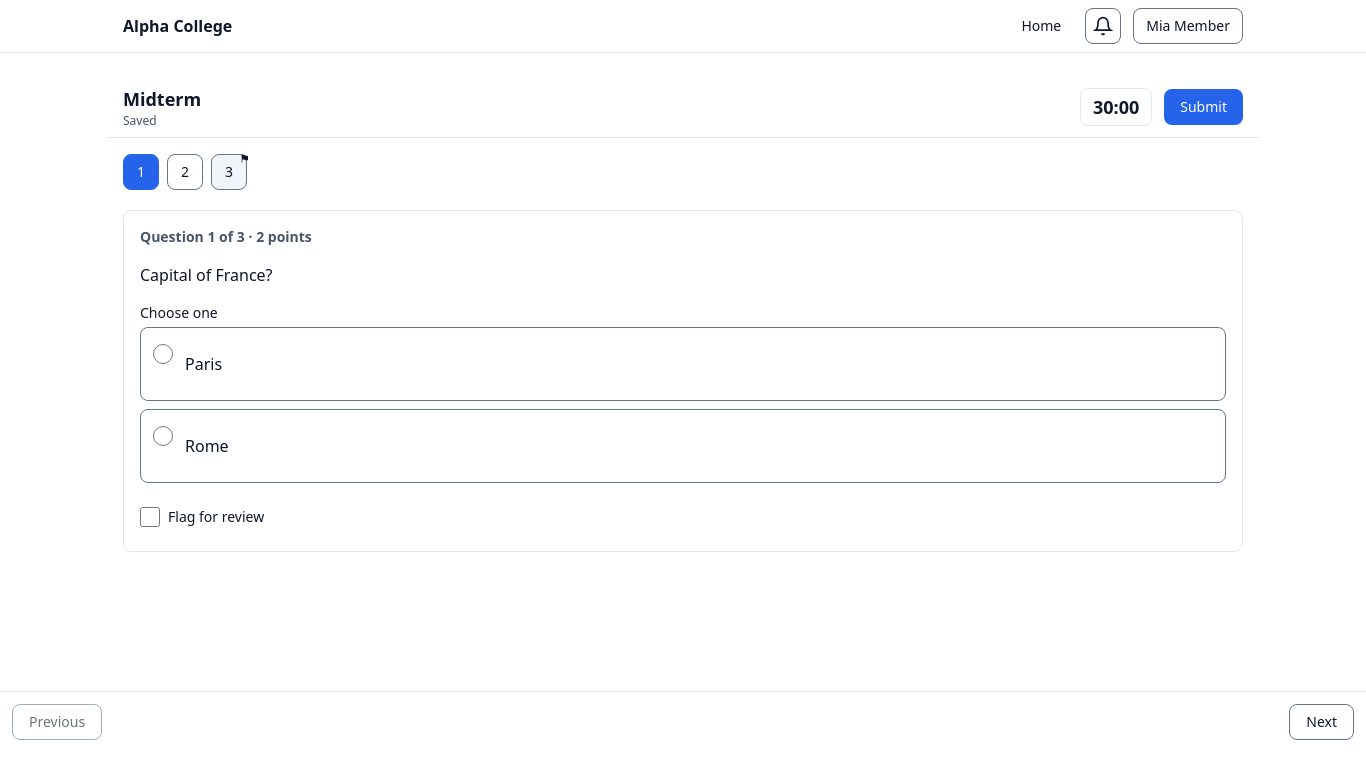
Test case: the exam screen › saves at once when the learner moves to another question
The width and height of the screenshot is (1366, 768).
Click the radio button labelled "Rome".
click(163, 436)  # box [153,426,173,446]
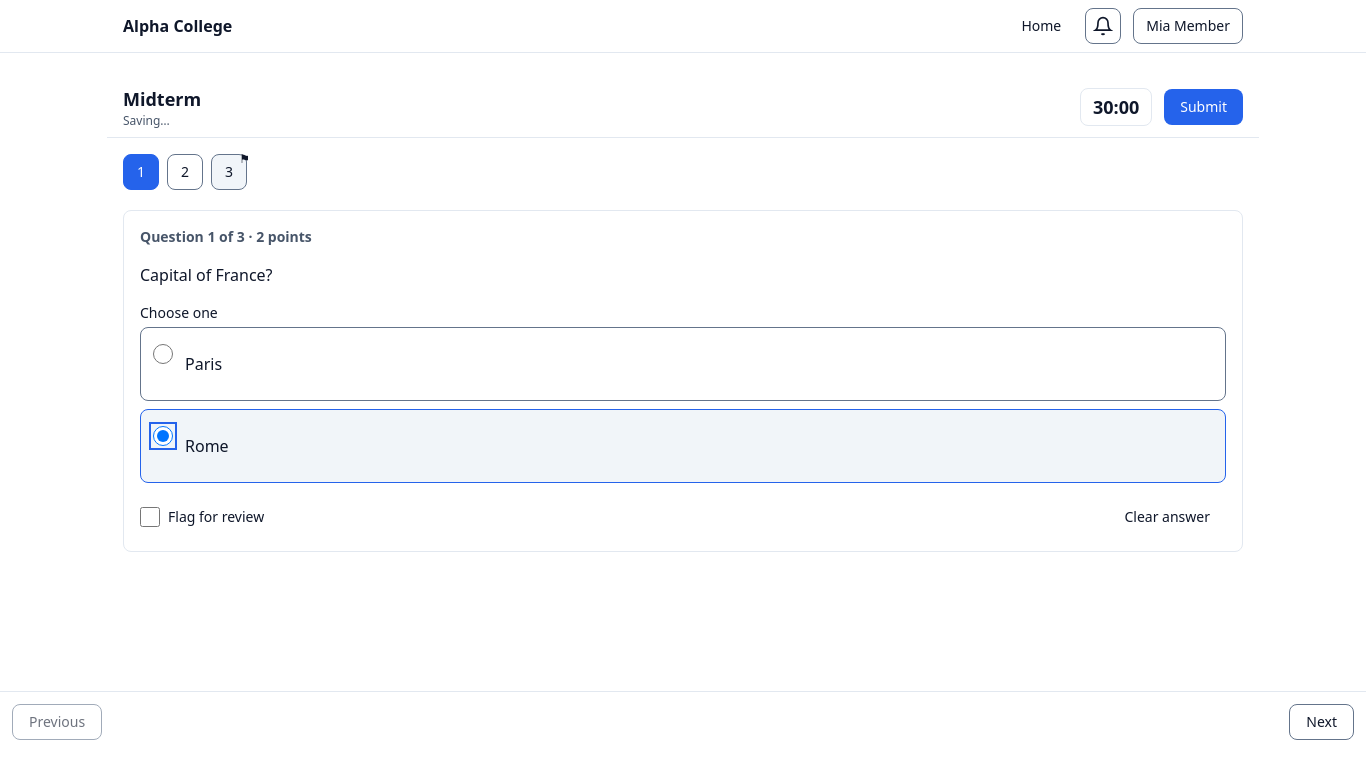
Click the button "Next".
click(1322, 722)  # box [1289,704,1354,740]
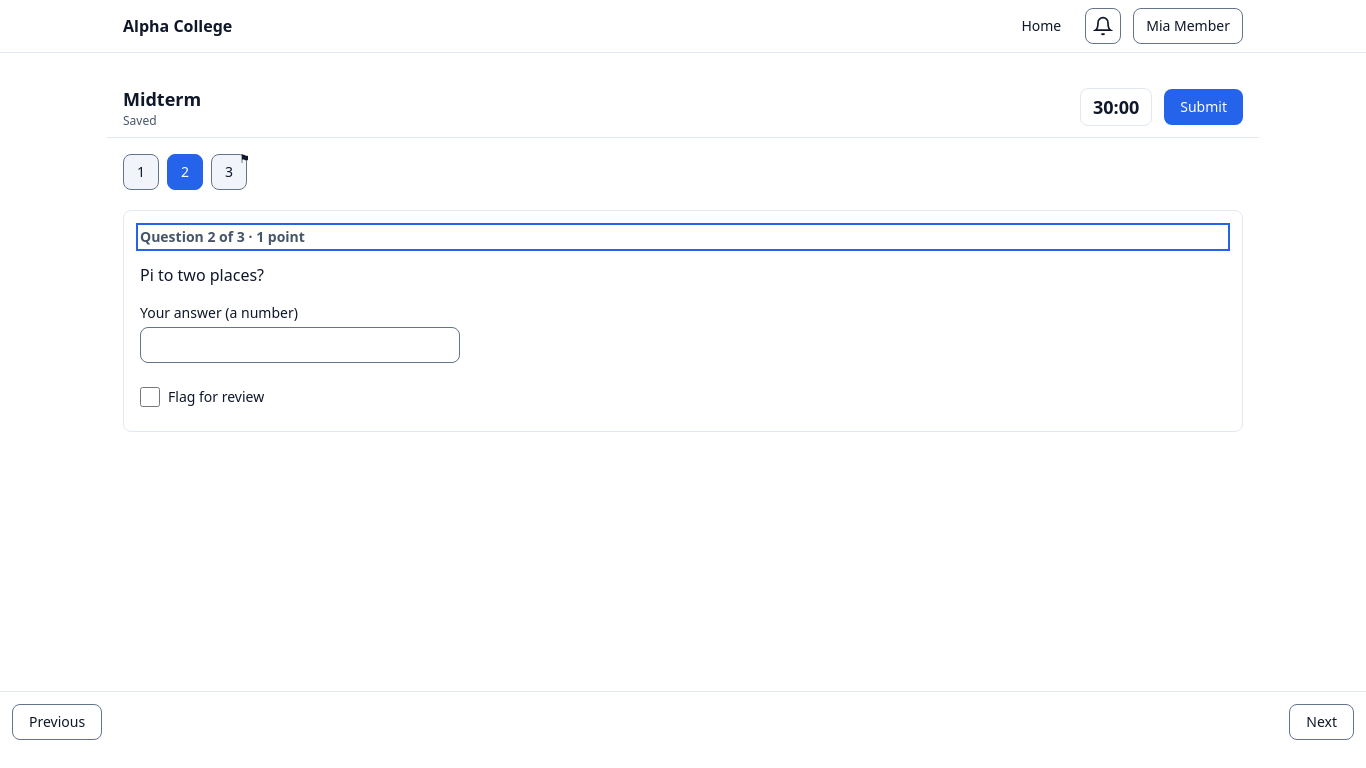
Now the text "Pi to two places?" is shown, box [140,264,264,286]
